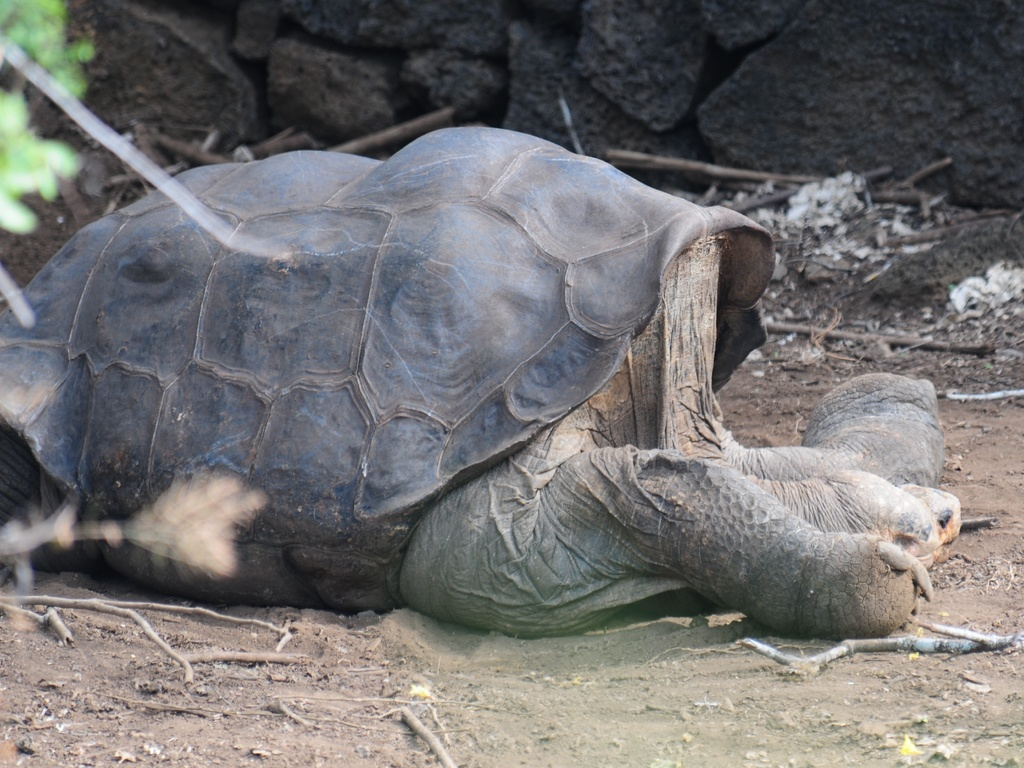Sea turtles: (0, 122, 963, 643)
